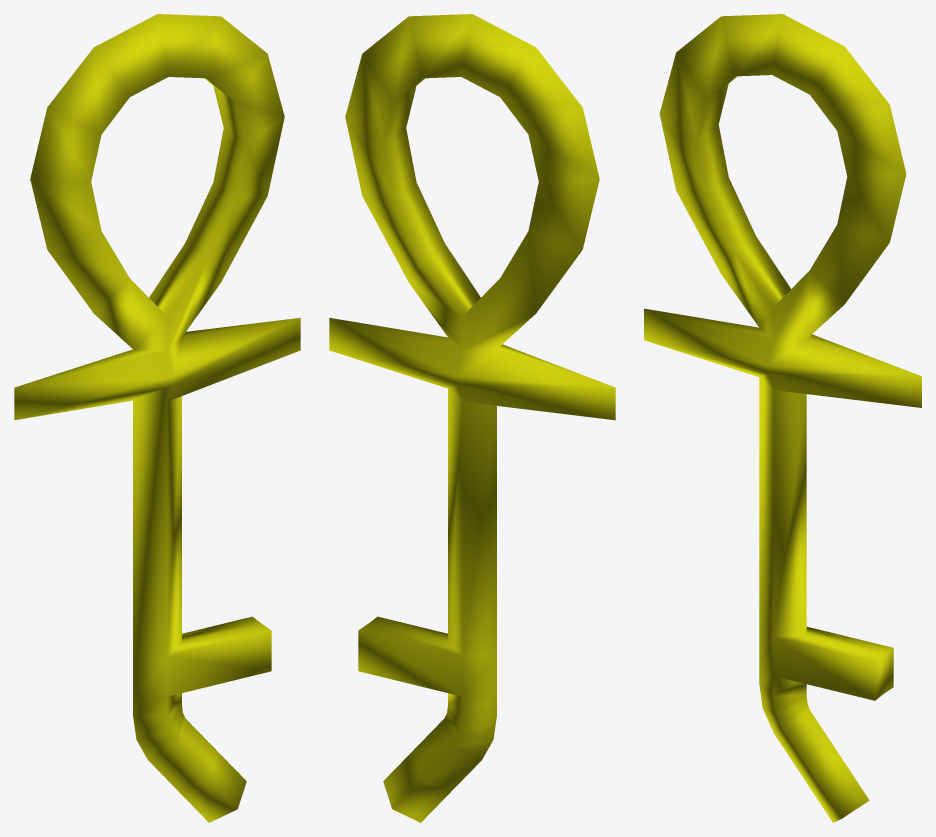
The model's file is key.fbx.
3 renders of one model, left to right at view 1: azimuth 30°, elevation 25°; view 2: azimuth 150°, elevation 25°; view 3: azimuth 330°, elevation 25°, orthographic. The views are drawn at different scales.
Visible parts, largest first — view 1: Torus; view 2: Torus; view 3: Torus.
Boxes of the visible parts, x1=… form: Torus: x1=14, y1=14, x2=300, y2=822; Torus: x1=329, y1=14, x2=615, y2=822; Torus: x1=644, y1=14, x2=921, y2=822.
Bounding box in the file's own units: 44.1 × 121 × 8.4.
